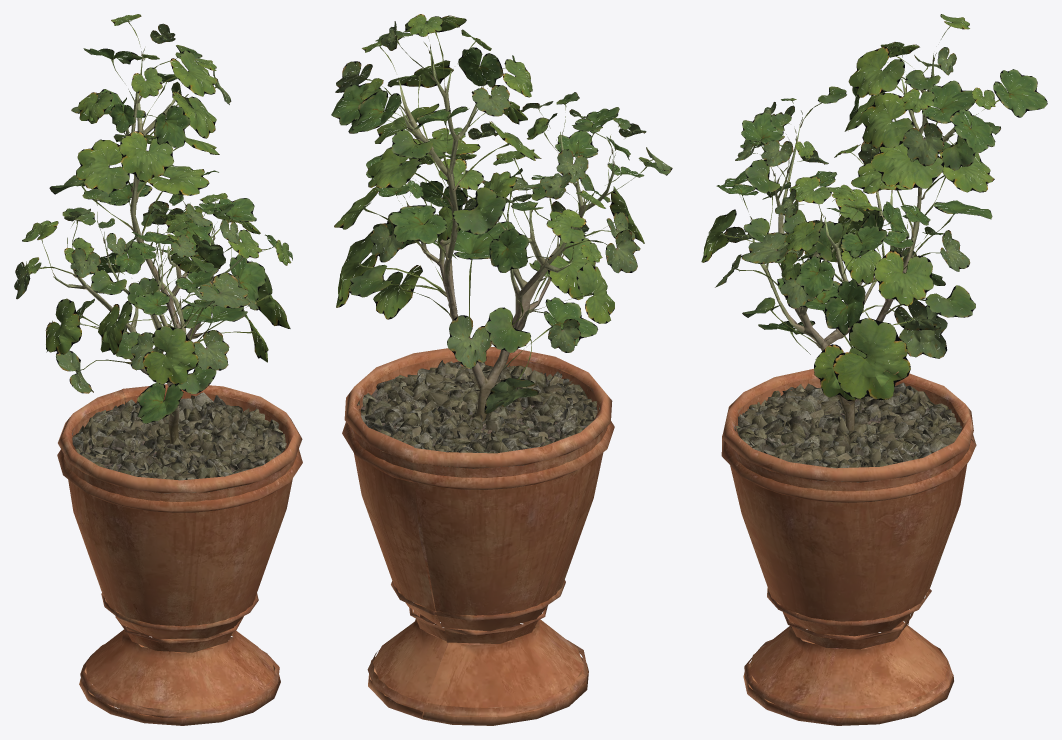
Rendered from potted_plant_01.glb.
3 views of the same model, side by side, from view 1: azimuth 30°, elevation 25°; view 2: azimuth 150°, elevation 25°; view 3: azimuth 270°, elevation 25° (orthographic). The views are drawn at different scales.
Visible parts, largest first — view 1: potted_plant_01_pot, potted_plant_01_leaves, potted_plant_01_pebbles, potted_plant_01_stem; view 2: potted_plant_01_pot, potted_plant_01_leaves, potted_plant_01_pebbles, potted_plant_01_stem; view 3: potted_plant_01_pot, potted_plant_01_leaves, potted_plant_01_pebbles, potted_plant_01_stem.
Boxes of the visible parts, x1,y1,x2,y2 form: potted_plant_01_pot: [57, 384, 302, 725]; potted_plant_01_leaves: [14, 14, 292, 423]; potted_plant_01_pebbles: [72, 392, 288, 493]; potted_plant_01_stem: [53, 54, 243, 443]; potted_plant_01_pot: [342, 347, 614, 725]; potted_plant_01_leaves: [331, 14, 672, 413]; potted_plant_01_pebbles: [357, 360, 599, 468]; potted_plant_01_stem: [399, 47, 613, 421]; potted_plant_01_pot: [721, 369, 976, 725]; potted_plant_01_leaves: [701, 14, 1047, 400]; potted_plant_01_pebbles: [734, 382, 961, 482]; potted_plant_01_stem: [752, 55, 967, 430].
Bounding box in the file's own units: 0.5871 × 1.34 × 0.6328.
Materials: 2 (2 with a texture image).
